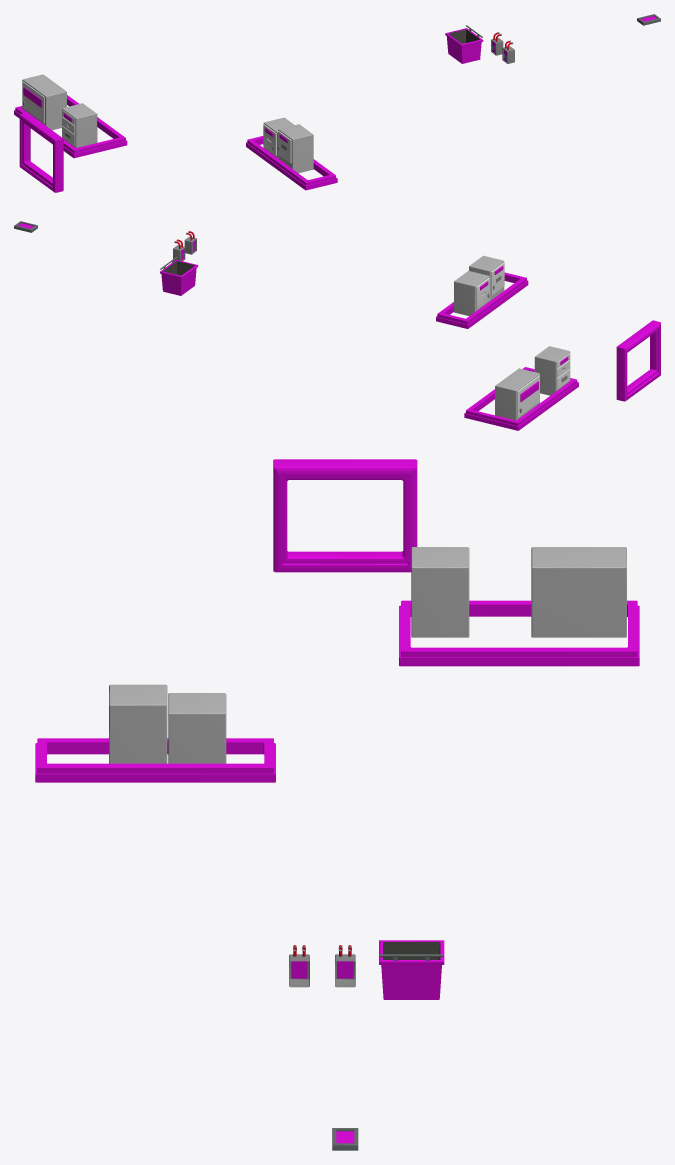
The model's file is Texture2.fbx.
The picture shows the model from 3 angles, top to bottom: view 1: azimuth 30°, elevation 25°; view 2: azimuth 150°, elevation 25°; view 3: azimuth 270°, elevation 25°; orthographic projection. The views are drawn at different scales.
Parts seen in each view (by area): view 1: Base (×2), Case3 (×2), Under_cases (×2), Case1, Case2; view 2: Base (×2), Under_cases (×2), Case3 (×2), Case1, Case2; view 3: Under_cases (×2), Base (×2), Case3 (×2), Case1, Case2.
Part boxes in pixels (x1=…): Base (×2): x1=19, y1=25, x2=483, y2=192; Case3 (×2): x1=62, y1=103, x2=313, y2=173; Under_cases (×2): x1=14, y1=95, x2=337, y2=190; Case1: x1=22, y1=74, x2=66, y2=130; Case2: x1=263, y1=117, x2=294, y2=158; Base (×2): x1=160, y1=257, x2=660, y2=401; Under_cases (×2): x1=436, y1=272, x2=578, y2=430; Case3 (×2): x1=469, y1=255, x2=570, y2=395; Case1: x1=495, y1=368, x2=539, y2=420; Case2: x1=454, y1=271, x2=489, y2=315; Under_cases (×2): x1=35, y1=600, x2=639, y2=782; Base (×2): x1=273, y1=459, x2=444, y2=999; Case3 (×2): x1=109, y1=547, x2=469, y2=763; Case1: x1=531, y1=547, x2=626, y2=637; Case2: x1=168, y1=693, x2=226, y2=763.
Bounding box in the file's own units: 53.05 × 4.34 × 22.34.
